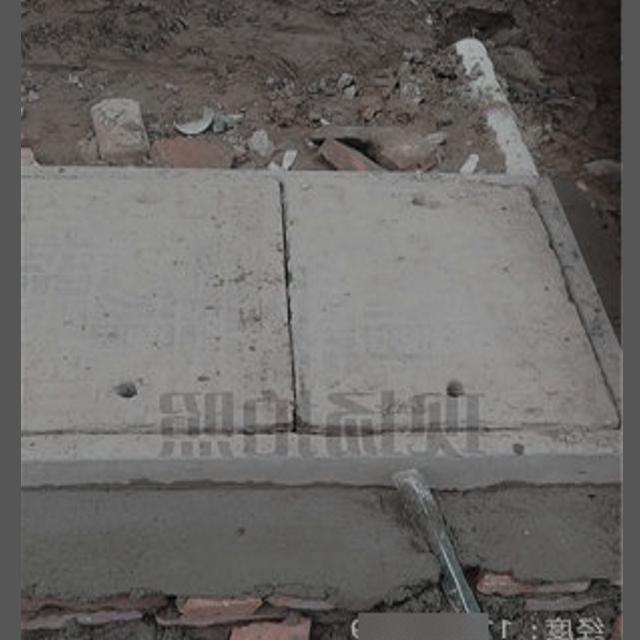good: (21, 163, 621, 483)
